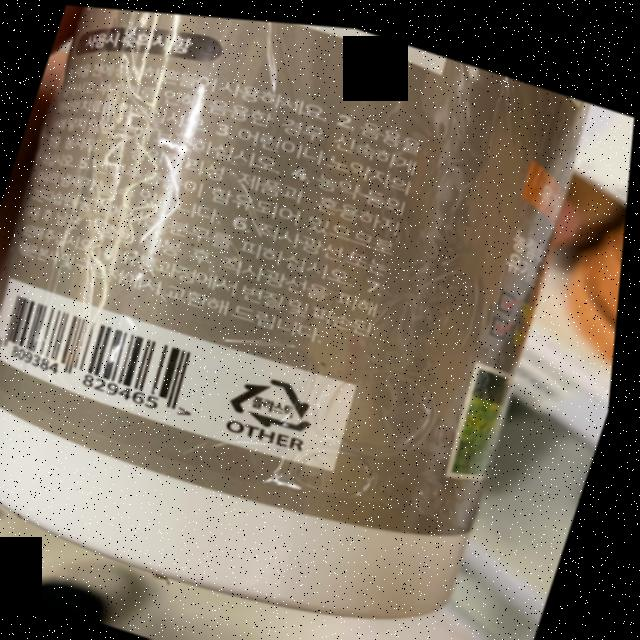Plastic: (229, 358, 333, 434)
